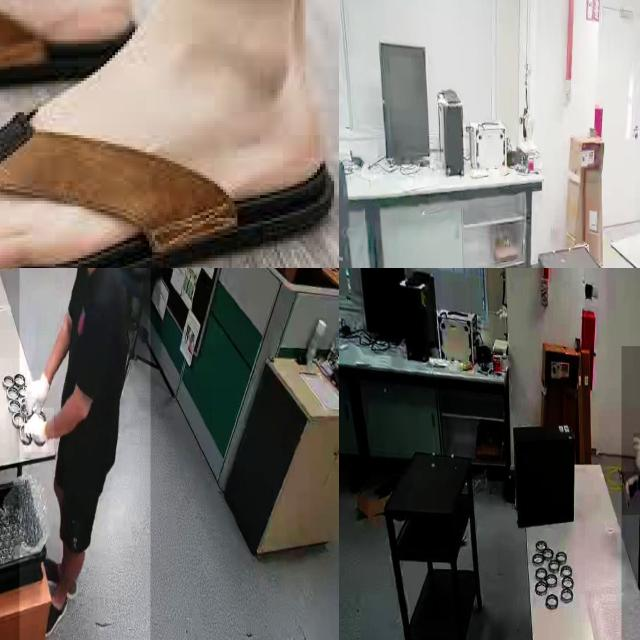Sandals: (0, 78, 334, 268)
hand_glove: (18, 371, 52, 412), (24, 408, 54, 453), (622, 471, 640, 514), (633, 433, 640, 485)
person: (19, 268, 150, 640)
shoes: (39, 556, 79, 600), (38, 584, 68, 638)
